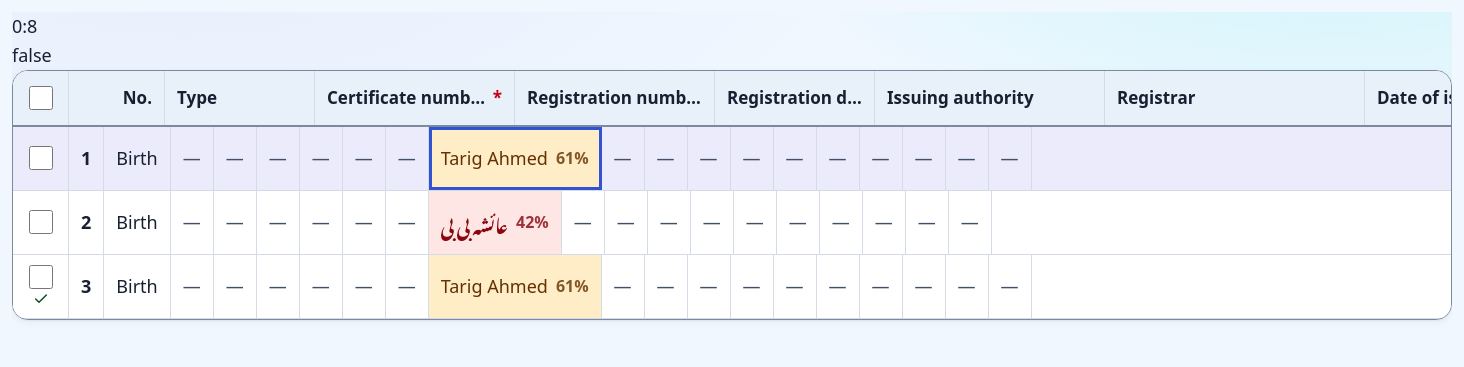
Test case: ResultsGrid selection › chooses every loaded row from the header checkbox
Click the checkbox named "Choose every row shown" at point(40, 98), box 28,86 -> 52,110
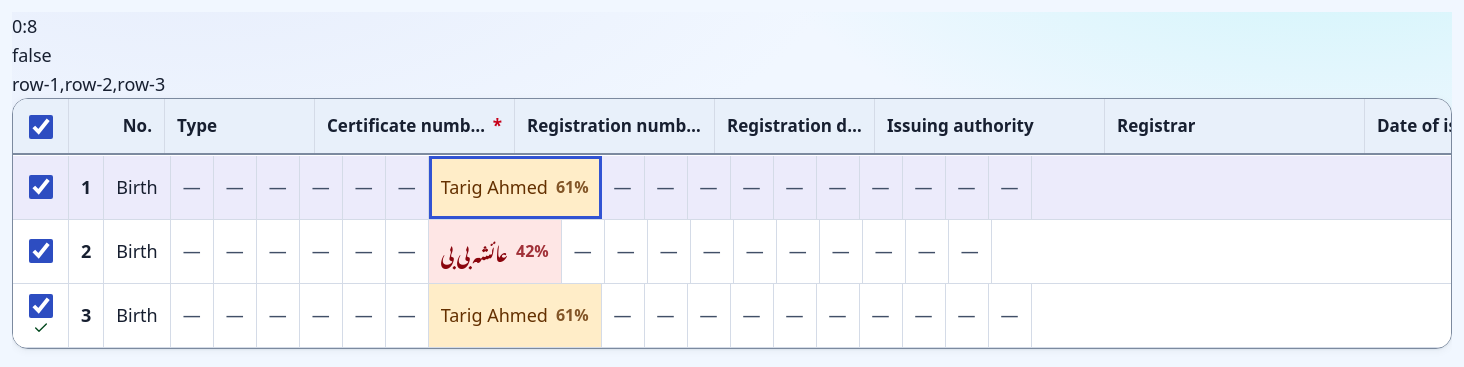
Expected: the text with test id "chosen" reads "row-1,row-2,row-3", 12,72 -> 165,96
